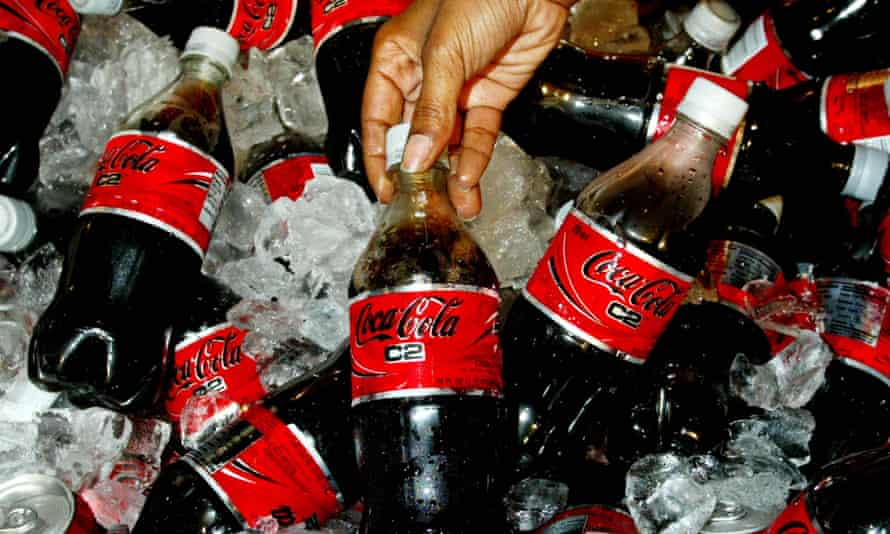plastic_bottle: (479, 24, 803, 534), (274, 79, 570, 534), (352, 8, 837, 263), (22, 23, 299, 461), (386, 12, 797, 219), (672, 156, 883, 534), (91, 235, 352, 534), (46, 1, 432, 127), (663, 1, 840, 118)
